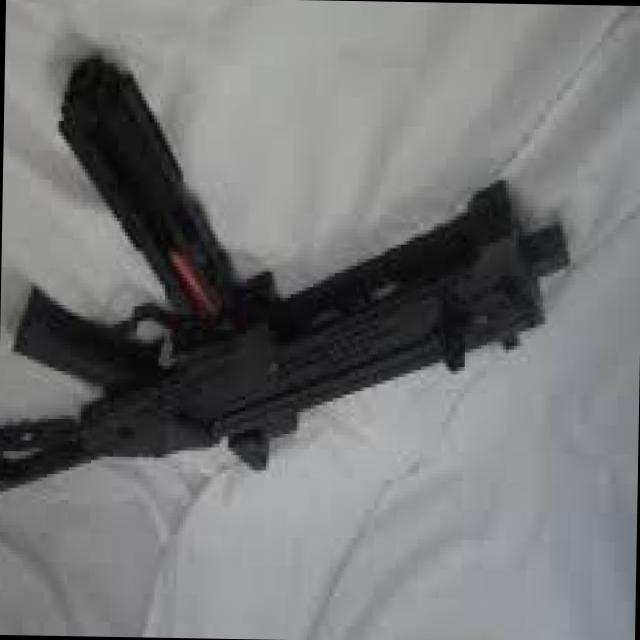Gun: (0, 61, 570, 512)
